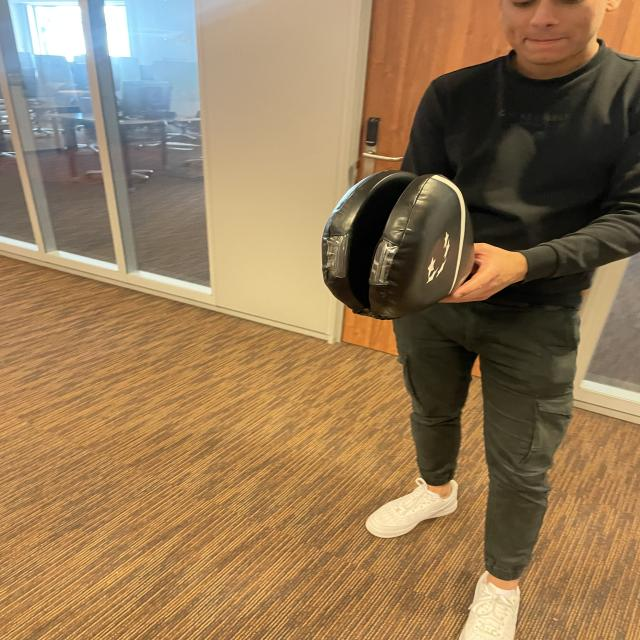paddle: (319, 169, 475, 313)
